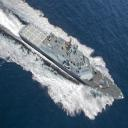Fragata: (1, 21, 89, 105)
